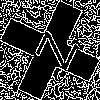Z: (25, 25, 79, 72)
